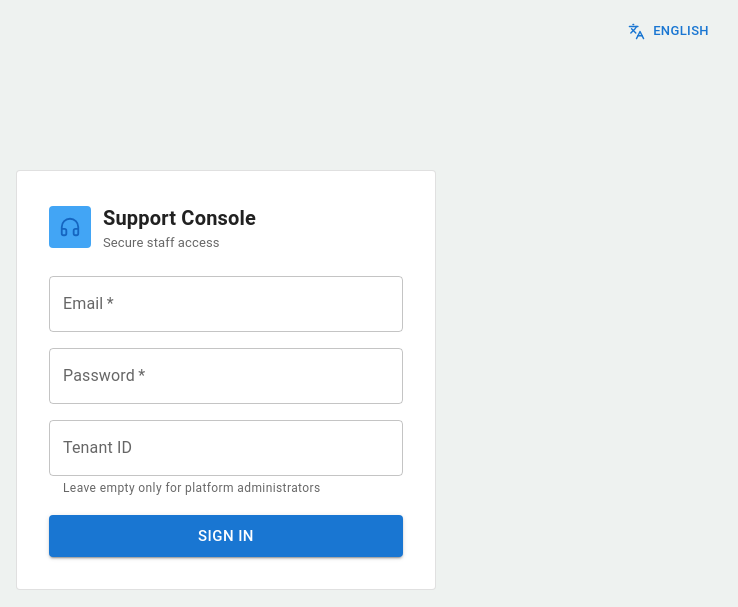
LoginPage › switches to Simplified Chinese and persists the language
The width and height of the screenshot is (738, 607).
Click the button with aria-label "Change language".
click(670, 31)  # box x1=625 y1=16 x2=714 y2=47
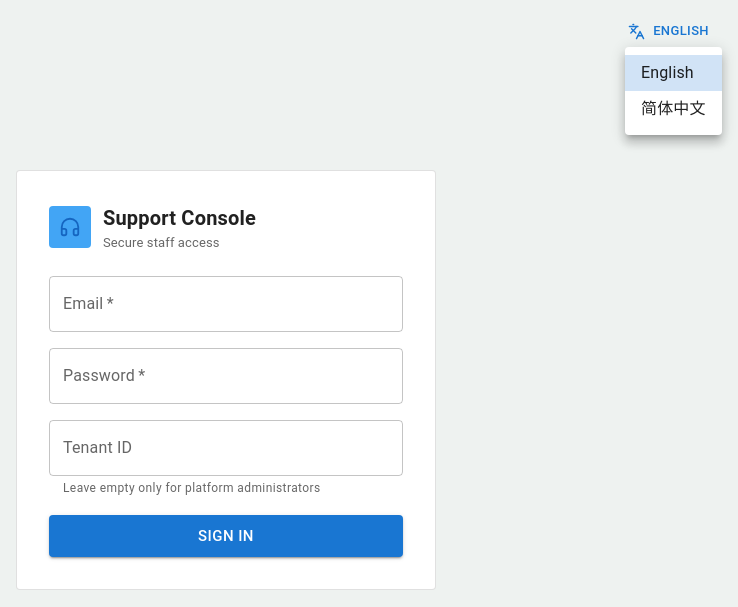
Click the menu item "简体中文".
click(673, 108)  # box x1=641 y1=99 x2=706 y2=118
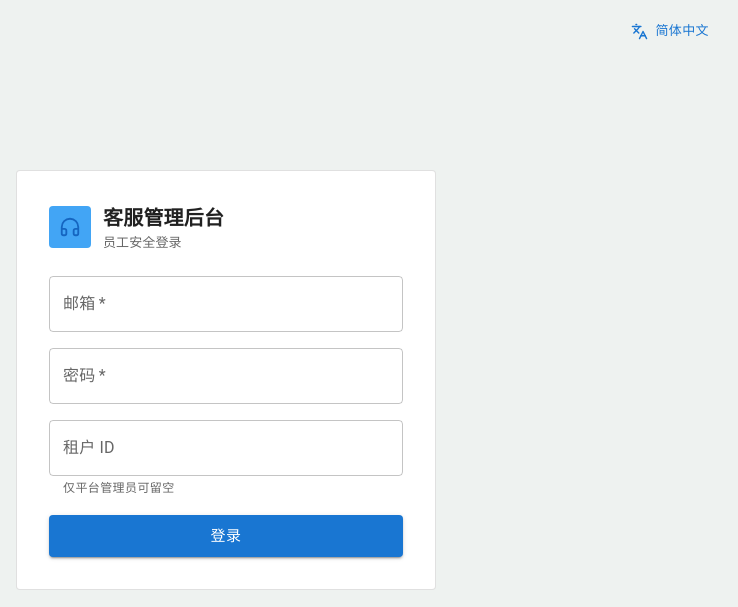
Expected: the field labelled "租户 ID" is shown, x1=49 y1=420 x2=403 y2=476
Expected: the heading "客服管理后台" is shown, x1=103 y1=203 x2=224 y2=233
Expected: the button "登录" is shown, x1=49 y1=515 x2=403 y2=557
